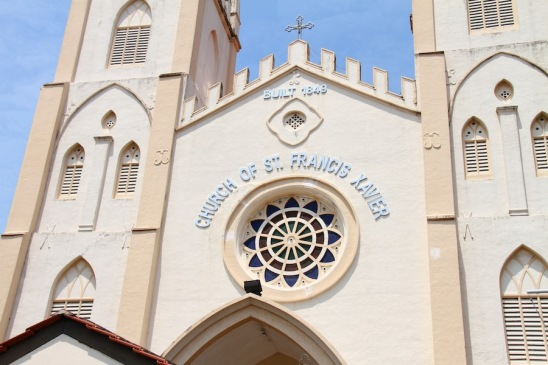Church: (24, 5, 544, 356)
